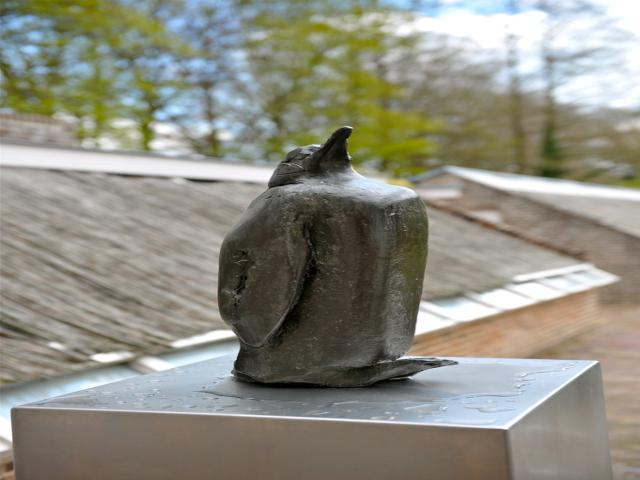Bird: (217, 125, 458, 389)
